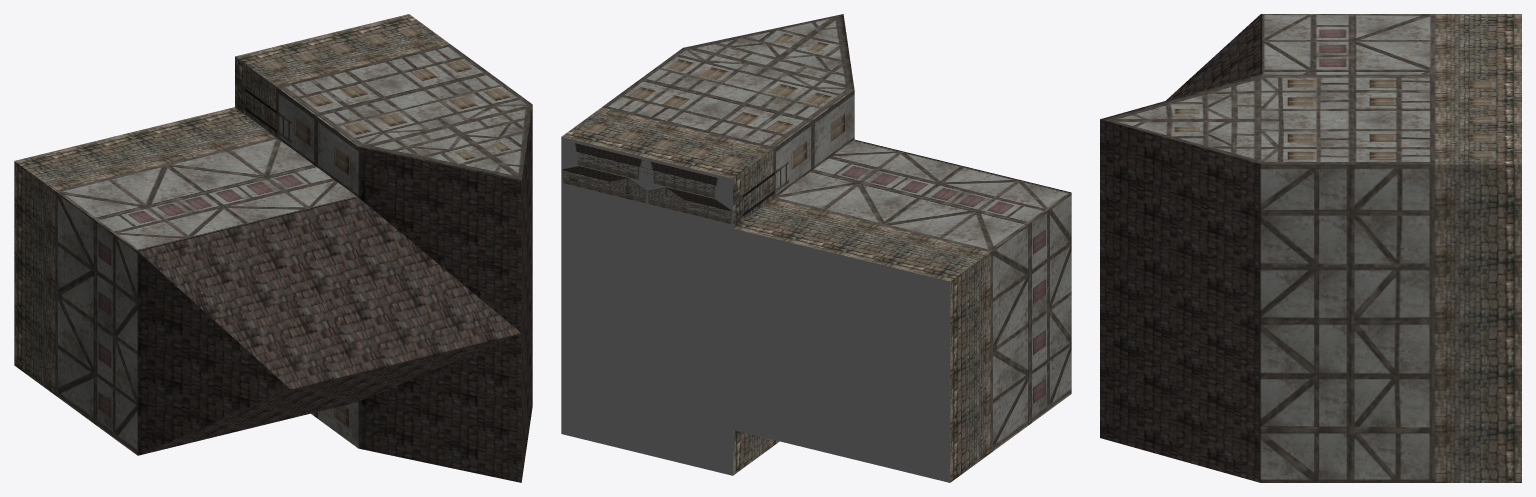
Rendered from fachwerkhaus2_LOD.fbx.
The picture shows the model from 3 angles, left to right: view 1: azimuth 30°, elevation 25°; view 2: azimuth 150°, elevation 25°; view 3: azimuth 270°, elevation 25°; orthographic projection. The views are drawn at different scales.
Visible parts, largest first — view 1: object; view 2: object; view 3: object.
Part boxes in pixels (x1,y1,x2,y2): object: (14, 14, 532, 482); object: (561, 14, 1071, 482); object: (1100, 14, 1521, 482).
Bounding box in the file's own units: 390 × 285 × 341.
